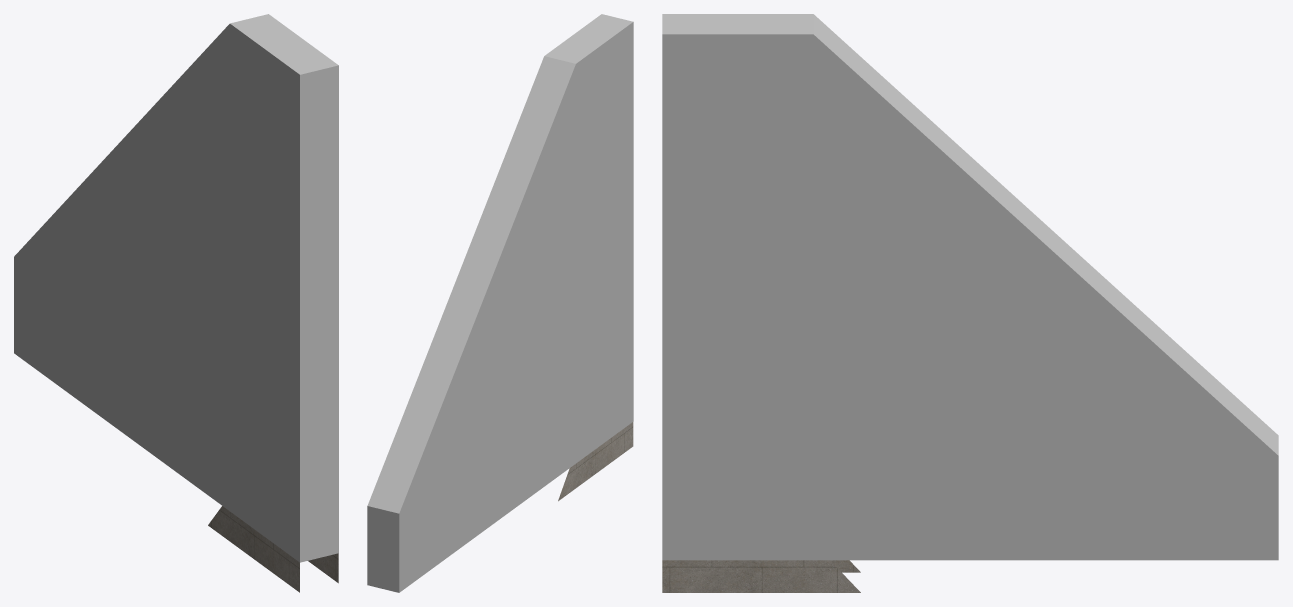
File: SM_GCM_Wall04A.fbx
The picture shows the model from 3 angles, left to right: view 1: azimuth 30°, elevation 25°; view 2: azimuth 150°, elevation 25°; view 3: azimuth 270°, elevation 25°; orthographic projection. The views are drawn at different scales.
Visible parts, largest first — view 1: SM_GCM_Wall04A_ConvexHulls, SM_GCM_Wall04A; view 2: SM_GCM_Wall04A_ConvexHulls, SM_GCM_Wall04A; view 3: SM_GCM_Wall04A_ConvexHulls, SM_GCM_Wall04A.
Part boxes in pixels (bbox=[...]): SM_GCM_Wall04A_ConvexHulls: bbox=[14, 14, 338, 562]; SM_GCM_Wall04A: bbox=[208, 506, 338, 592]; SM_GCM_Wall04A_ConvexHulls: bbox=[367, 14, 633, 592]; SM_GCM_Wall04A: bbox=[558, 422, 633, 501]; SM_GCM_Wall04A_ConvexHulls: bbox=[662, 14, 1278, 560]; SM_GCM_Wall04A: bbox=[662, 560, 860, 592].
Bounding box in the file's own units: 44.13 × 563 × 563.
2 materials, 1 textured.
